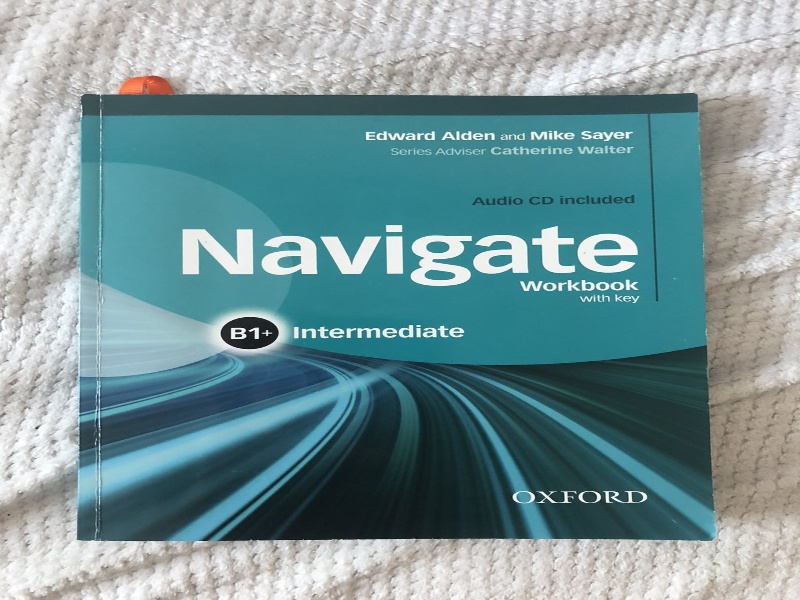document: (82, 95, 712, 541)
